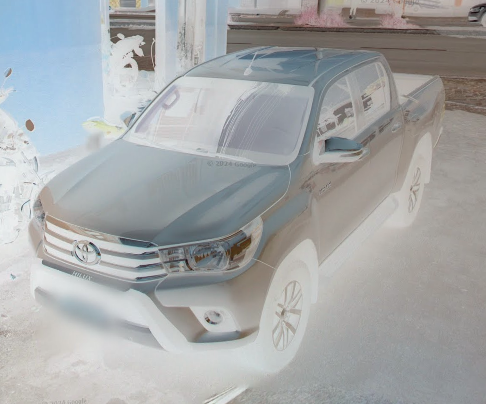car: (24, 44, 450, 378)
